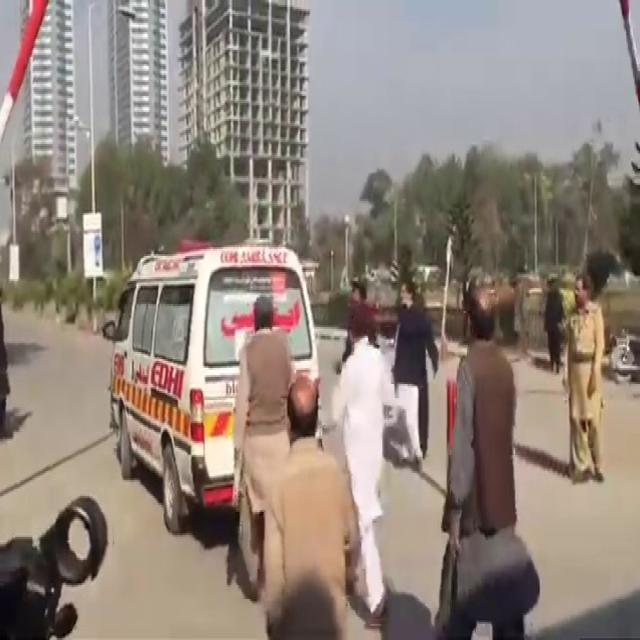ambulance: (96, 228, 340, 477)
